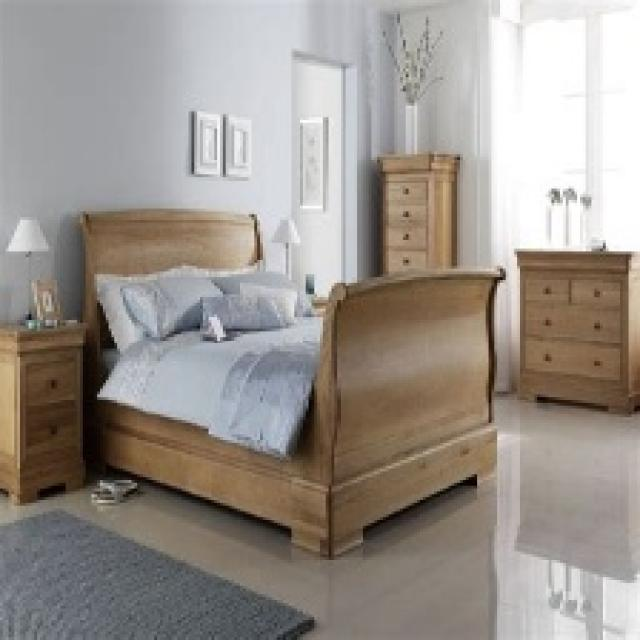Bed: (77, 206, 506, 557)
